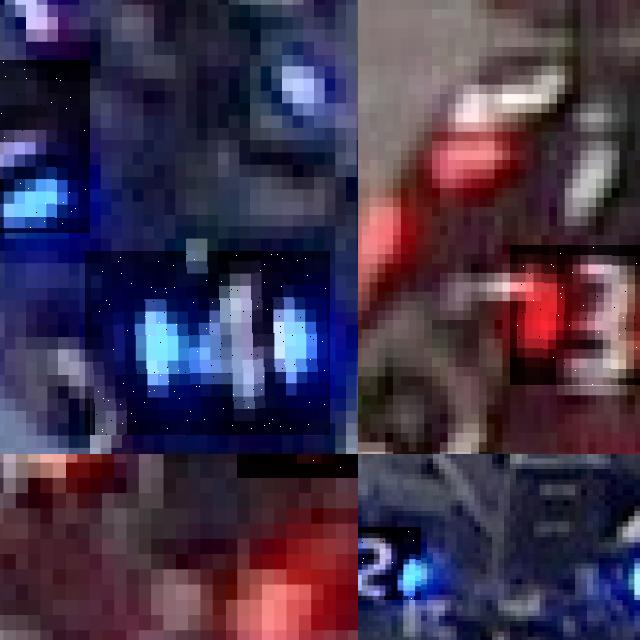B2: (358, 526, 420, 600)
B4: (85, 251, 330, 435), (0, 60, 89, 232)
R3: (510, 244, 640, 385)
